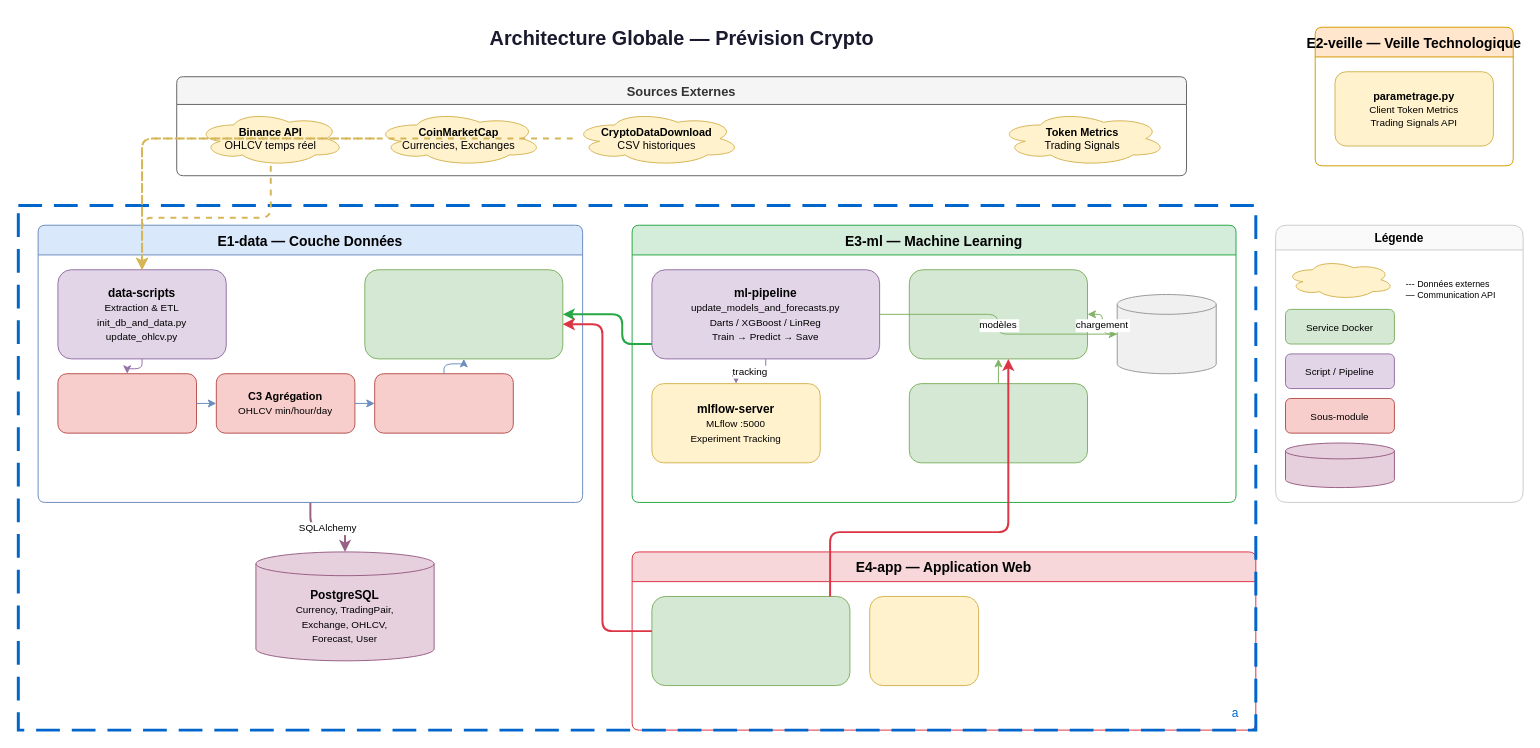
Image size: 1540x748. Some labels were removed from this diagram. The centre of each missing label's shape, as x and y in pixels:
"Base de données" goes at point 1339,465.
"C1 Extraction Binance, CMC, CryptoDownload, CSV" goes at point 127,403.
"C4 Database SQLAlchemy Models CRUD Operations" goes at point 443,403.
"data-api FastAPI :8001 OHLCV, Trading Pairs, Forecast CRUD" goes at point 463,314.
"ml-api FastAPI :8002 forecast_hourly forecast_daily" goes at point 998,314.
"ml-app Streamlit :8501 App de démo" goes at point 998,423.
"ml_models Volume Docker Modèles entraînés" goes at point 1166,334.
"Monitoring Flask Monitoring Dashboard" goes at point 924,640.
"Source externe (API/CSV)" goes at point 1339,279.
"webapp Django :8080 Auth, Dashboard, Forecast, Charts (Plotly)" goes at point 750,640.
